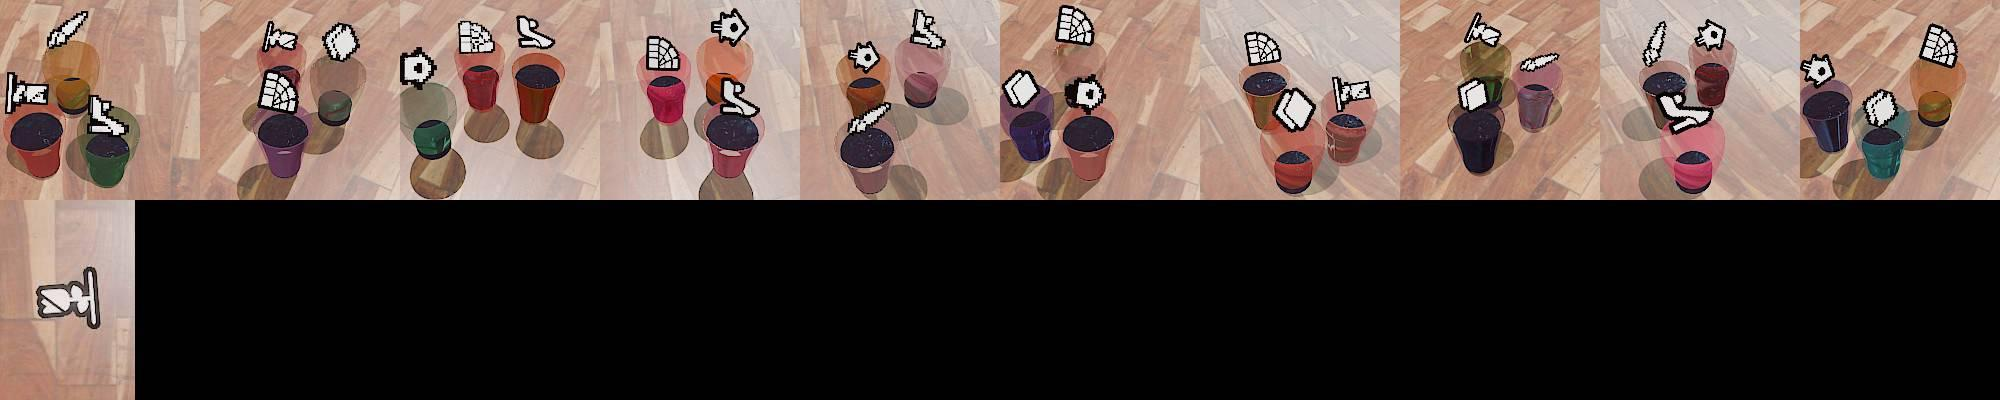icon: (34, 266, 102, 327), (1656, 90, 1714, 134), (1270, 85, 1318, 132), (258, 68, 300, 117), (4, 71, 50, 113), (1918, 23, 1959, 69), (87, 93, 129, 136), (46, 10, 91, 51), (1055, 3, 1096, 46), (1064, 70, 1107, 111), (1329, 74, 1374, 113), (719, 76, 761, 117), (908, 8, 948, 51), (320, 22, 361, 62), (709, 6, 749, 48), (1001, 69, 1041, 108), (399, 47, 436, 89), (847, 101, 892, 135), (515, 14, 556, 51), (1463, 11, 1501, 50), (1861, 89, 1899, 127), (457, 18, 496, 55), (1245, 29, 1283, 66), (1800, 51, 1837, 88), (1642, 19, 1670, 68), (647, 36, 681, 71), (1455, 76, 1490, 112), (1693, 18, 1727, 54), (261, 20, 298, 54), (846, 41, 880, 74), (1518, 51, 1562, 73)
